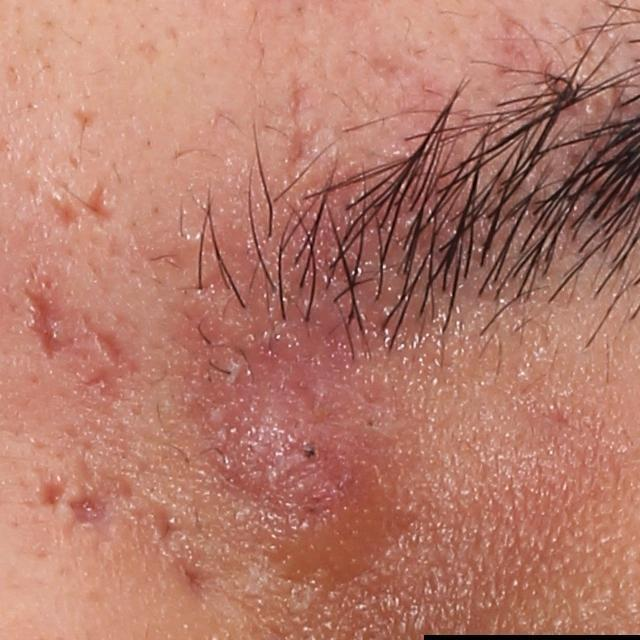atrophic_scar: (79, 311, 145, 407), (289, 70, 329, 179), (22, 286, 60, 365), (147, 495, 188, 559), (66, 486, 119, 528), (80, 175, 118, 227), (31, 475, 73, 511), (49, 192, 79, 236), (132, 38, 165, 68), (69, 106, 100, 130)
nodule: (183, 319, 414, 534)
